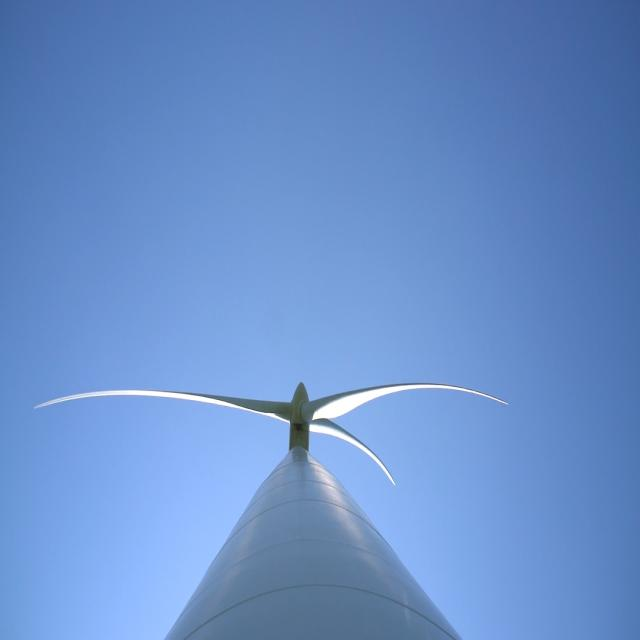blade 1: (325, 342, 557, 419)
blade 2: (346, 425, 402, 484)
blade 3: (10, 352, 272, 422)
